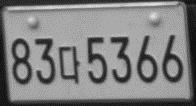3: (33, 38, 56, 84), (109, 35, 131, 83)
5: (86, 36, 107, 84)
6: (161, 33, 184, 83), (136, 34, 157, 83)
8: (10, 37, 32, 84)
다: (57, 45, 81, 84)
